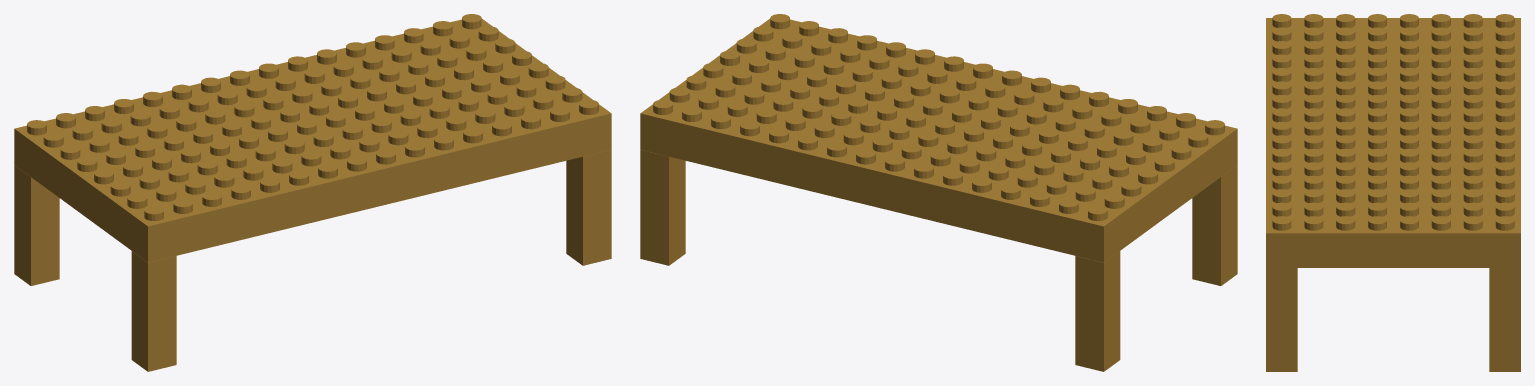
The model's file is Table.dae.
3 views of the same model, side by side, from view 1: azimuth 30°, elevation 25°; view 2: azimuth 150°, elevation 25°; view 3: azimuth 270°, elevation 25° (orthographic). The views are drawn at different scales.
Parts seen in each view (by area): view 1: Part.0, Part.1, Part.4, Part.2; view 2: Part.0, Part.2, Part.3, Part.1; view 3: Part.0, Part.3, Part.4.
Boxes of the visible parts, bbox=[...] form: Part.0: bbox=[14, 14, 611, 262]; Part.1: bbox=[131, 251, 176, 371]; Part.4: bbox=[566, 149, 611, 265]; Part.2: bbox=[14, 165, 59, 285]; Part.0: bbox=[640, 14, 1237, 262]; Part.2: bbox=[1075, 251, 1120, 371]; Part.3: bbox=[640, 149, 685, 265]; Part.1: bbox=[1192, 165, 1237, 285]; Part.0: bbox=[1266, 14, 1520, 267]; Part.3: bbox=[1489, 268, 1520, 371]; Part.4: bbox=[1266, 268, 1297, 371].
Size of the model in its own units: 128 by 40.18 by 63.92.
